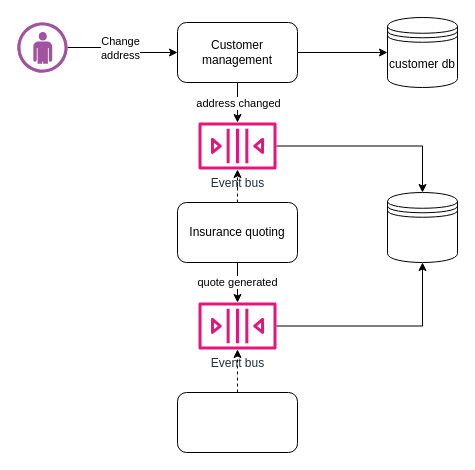
The diagram is 475 pixels wide and 470 high, and some of its shapes have lost their labels. The shapes that lost their labels are listed below. From the top down, each one's box as (x1, y1, x2, y2) in pixels, then its label:
(386, 192, 458, 262): Event store
(176, 392, 298, 452): Communications
